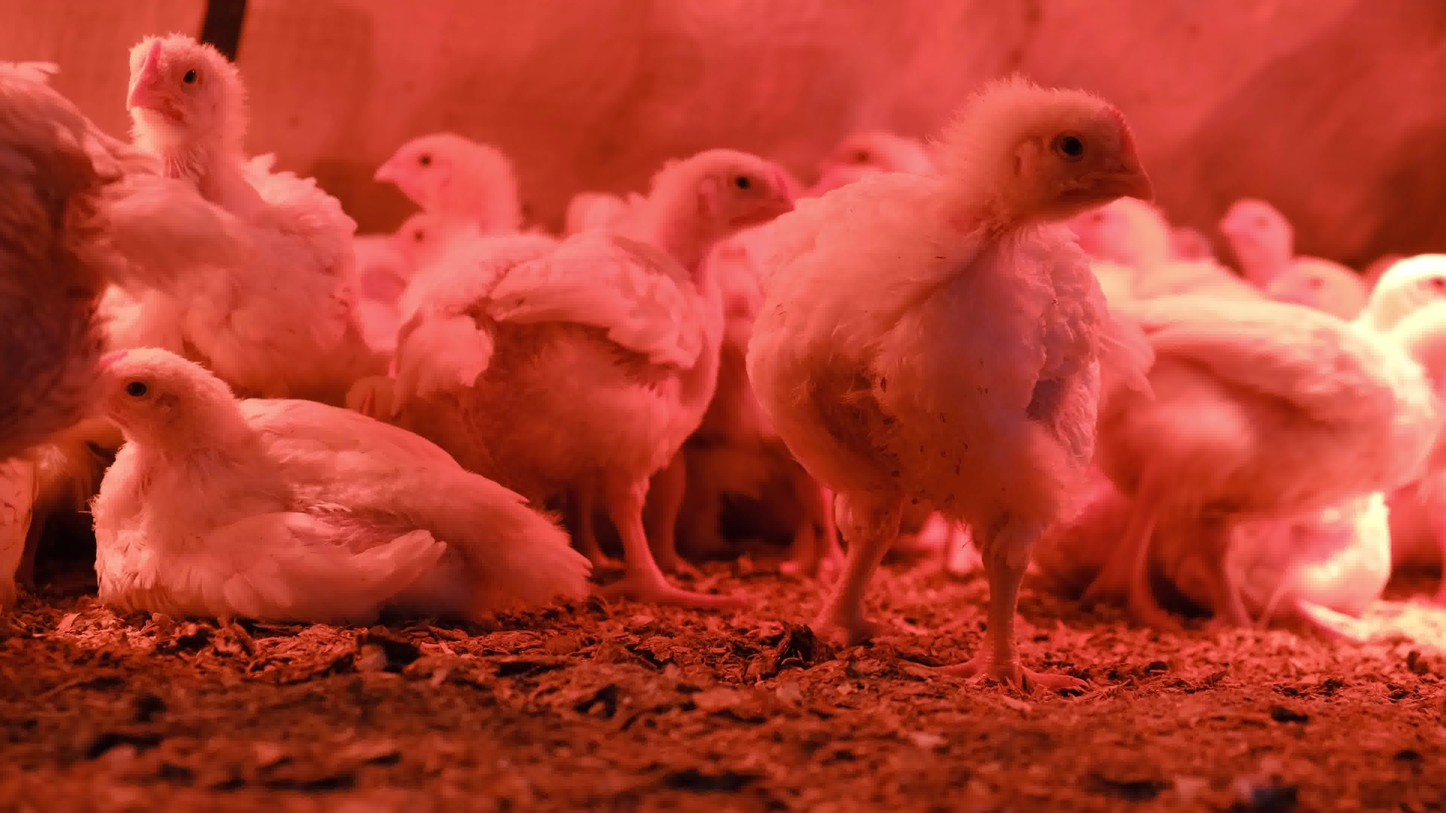AbNormal: (84, 346, 592, 623), (1158, 488, 1397, 632)
Normal: (750, 81, 1164, 687), (376, 147, 808, 602), (1082, 251, 1444, 631), (0, 55, 241, 468), (123, 38, 369, 399), (379, 128, 524, 240), (1217, 190, 1299, 298), (810, 128, 941, 194), (1269, 254, 1373, 334), (375, 209, 477, 273)
